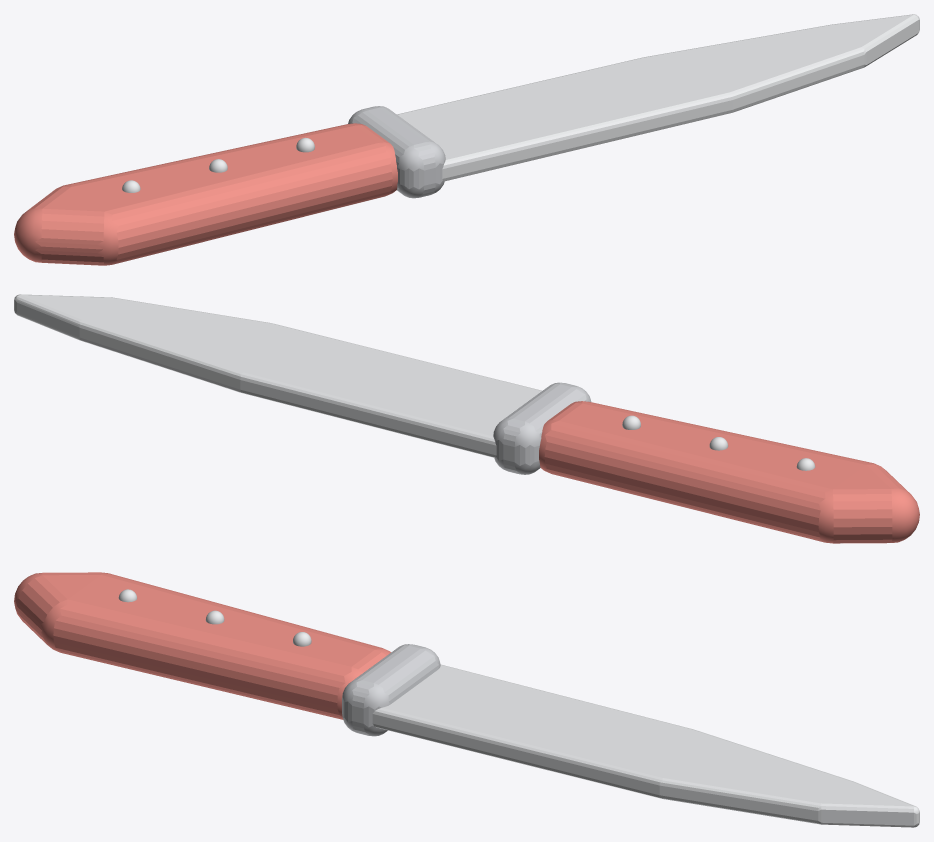
The model's file is knife.glb.
3 views of the same model, one above another, from view 1: azimuth 30°, elevation 25°; view 2: azimuth 150°, elevation 25°; view 3: azimuth 330°, elevation 25° (orthographic).
Visible parts, largest first — view 1: Knife_Blade, Knife_Handle, Knife_Bolster, Knife_Rivets; view 2: Knife_Blade, Knife_Handle, Knife_Bolster, Knife_Rivets; view 3: Knife_Blade, Knife_Handle, Knife_Bolster, Knife_Rivets.
Boxes of the visible parts, x1,y1,x2,y2 form: Knife_Blade: (397,14,919,181); Knife_Handle: (14,123,397,265); Knife_Bolster: (348,106,445,198); Knife_Rivets: (122,137,314,192); Knife_Blade: (14,294,542,457); Knife_Handle: (539,401,919,543); Knife_Bolster: (493,382,591,474); Knife_Rivets: (622,415,815,470); Knife_Blade: (372,664,919,827); Knife_Handle: (14,572,390,719); Knife_Bolster: (342,644,440,736); Knife_Rivets: (118,589,311,646).
Bounding box in the file's own units: 0.3103 × 0.0205 × 0.0403.
